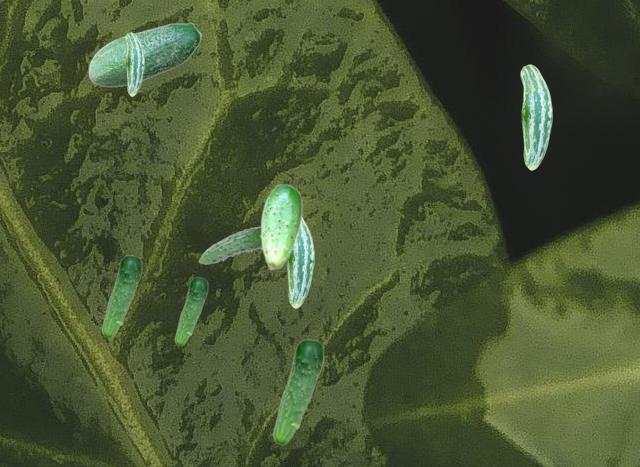cucumber: (88, 22, 201, 86), (272, 339, 323, 444), (260, 183, 301, 269), (101, 255, 141, 337), (520, 64, 551, 169), (286, 216, 313, 307), (198, 226, 260, 263), (174, 277, 207, 345), (125, 32, 143, 95)
